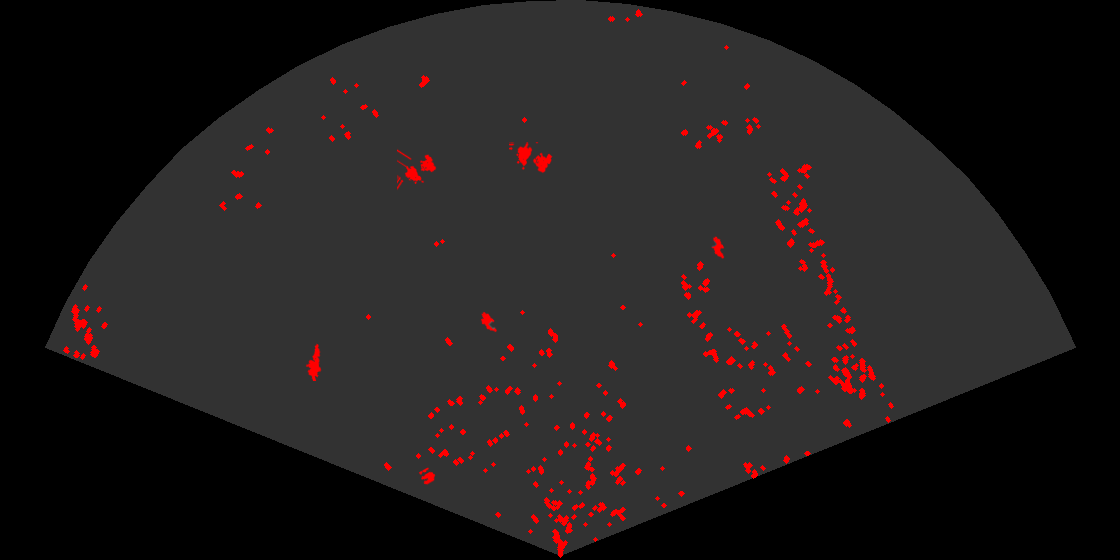AUV: (479, 310, 499, 334), (710, 235, 726, 260)
ball: (417, 466, 437, 486)
cage: (397, 147, 438, 191), (509, 142, 554, 175)
frogman: (304, 343, 323, 381)
